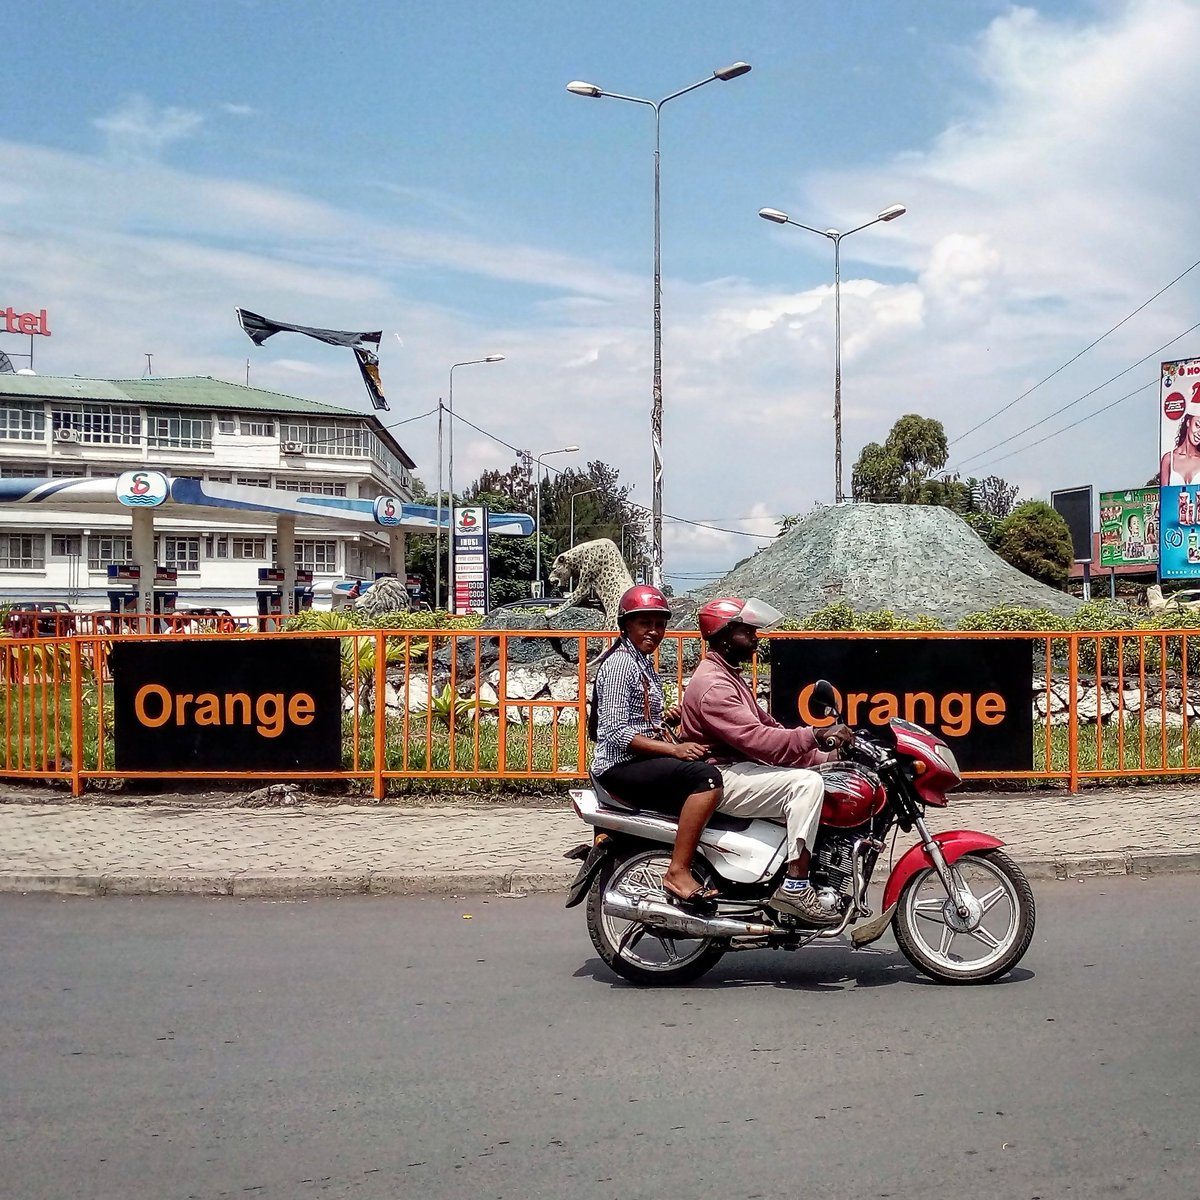motorbike: (549, 703, 1104, 1034)
